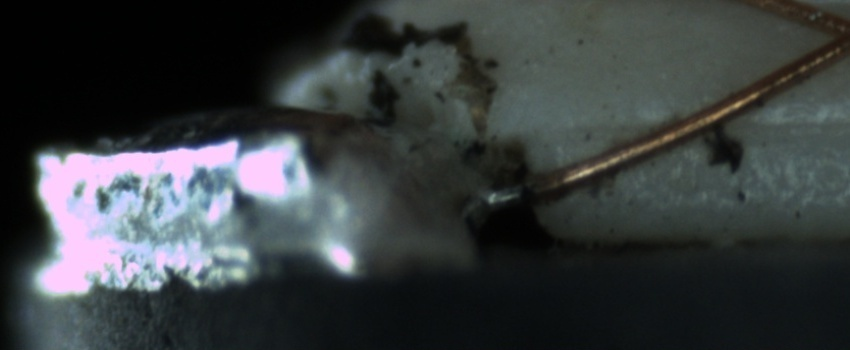CL: (803, 2, 850, 66)
DL: (603, 91, 850, 162)
TS: (476, 180, 529, 213)
